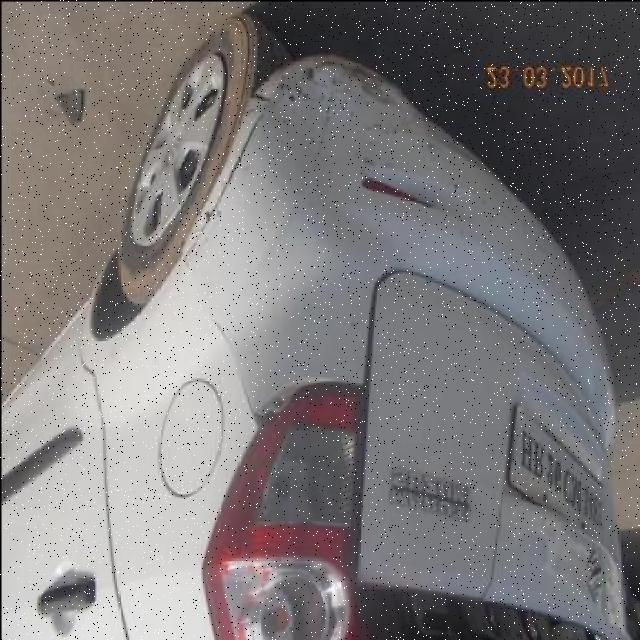damage: (204, 297, 363, 432), (183, 108, 270, 262), (244, 55, 406, 118)
